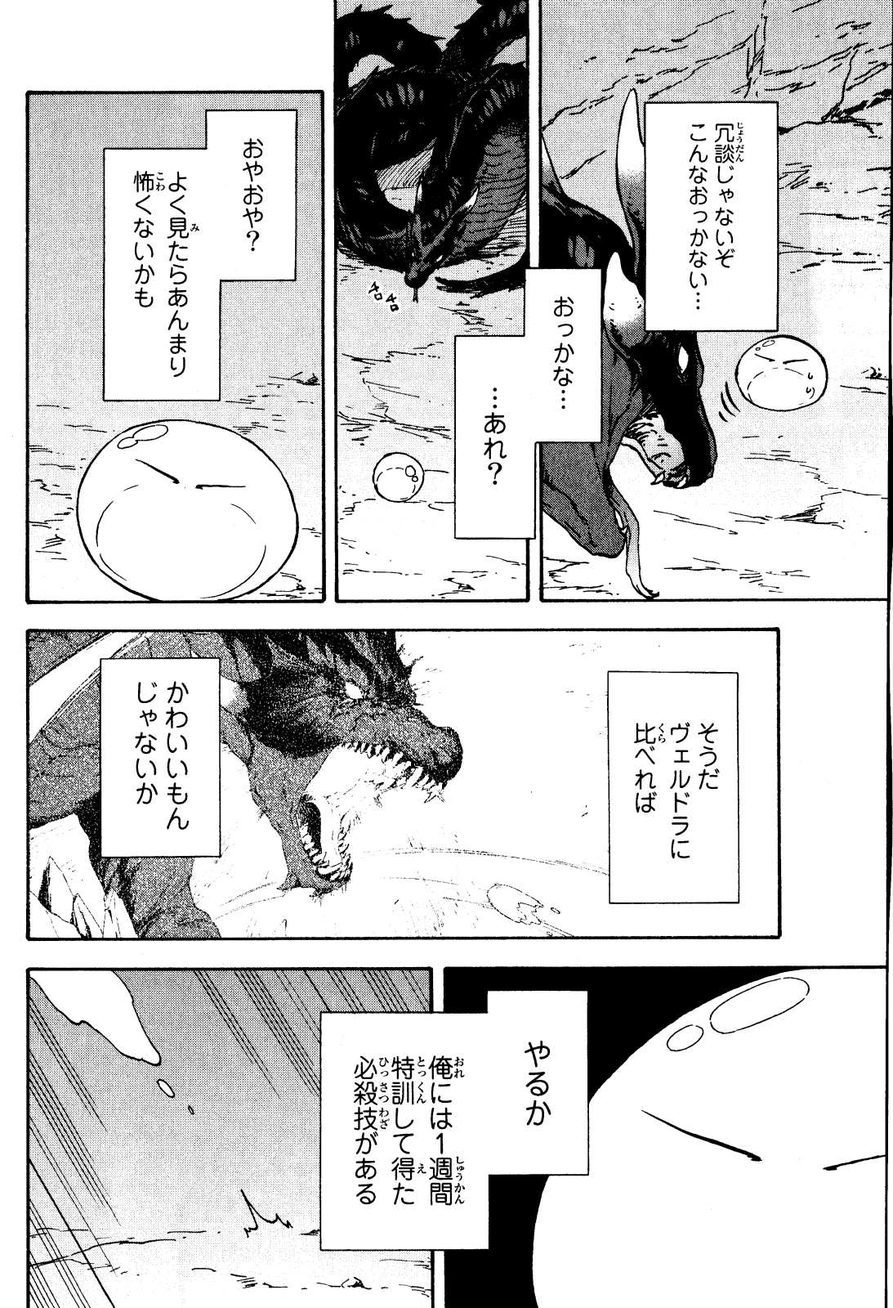bubbles: (314, 982, 596, 1256), (95, 106, 303, 410), (453, 261, 605, 541), (599, 661, 746, 911), (640, 97, 789, 336), (94, 654, 225, 865)
